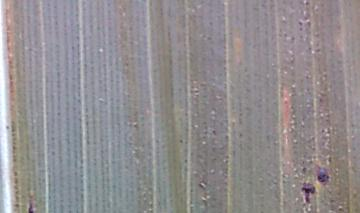tarspot: (299, 181, 317, 207), (313, 164, 333, 186), (22, 199, 37, 213), (299, 166, 308, 175), (211, 128, 219, 137)
